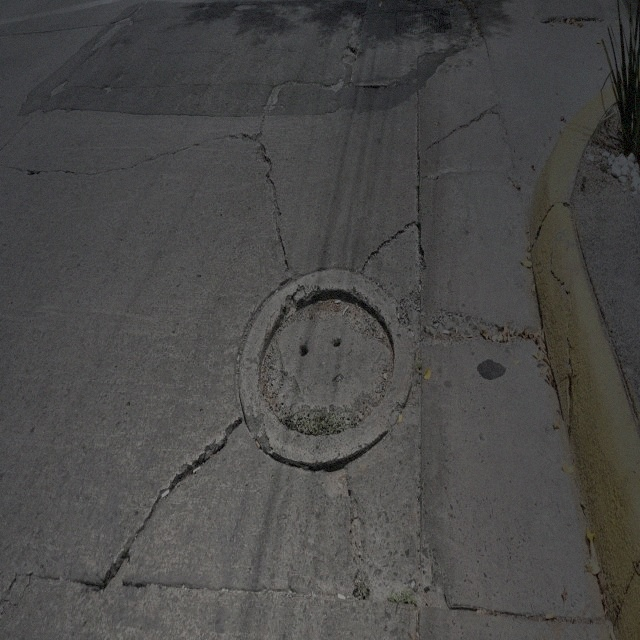pothole: (416, 533, 459, 620), (340, 290, 393, 351), (422, 308, 490, 346), (258, 331, 286, 420), (348, 497, 370, 588), (316, 460, 352, 501), (263, 81, 288, 111), (342, 44, 357, 70), (330, 78, 343, 90)
